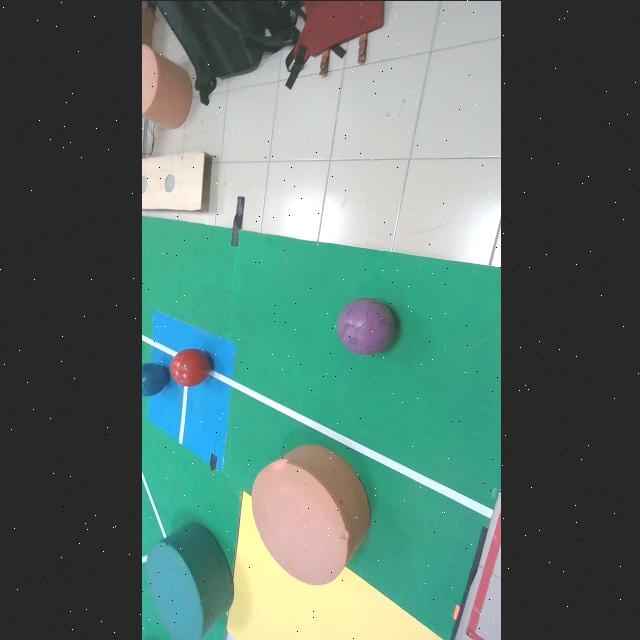B: (140, 362, 167, 396)
P: (335, 298, 394, 354)
R: (168, 348, 209, 387)
